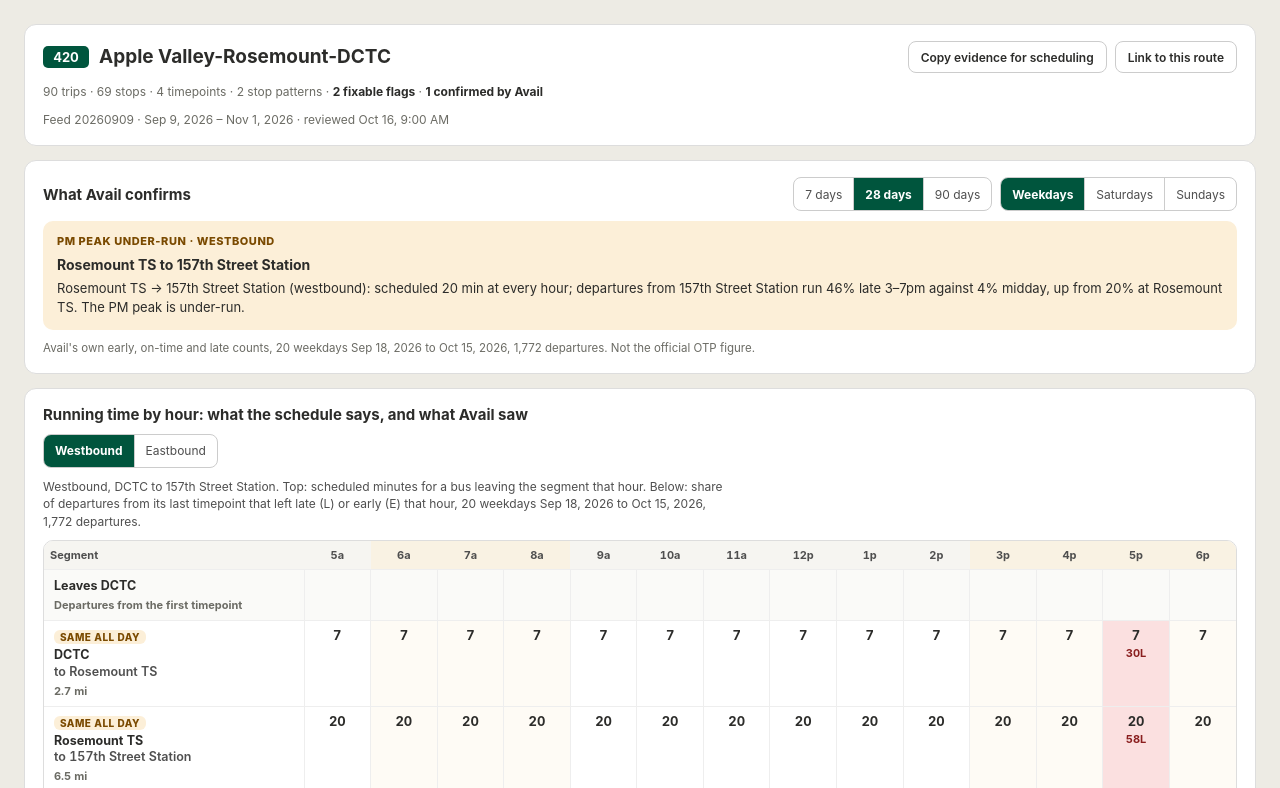
Test case: ScheduleRouteView › asks again with the window the reader picks, and offers Try again when Avail fails
Expected: the list named "where Avail confirms" is shown, 43,221 -> 1237,330
What coordinates should you click on to do the following:
click the button "90 days"
I would click on:
 (957, 194)
Its box is 923,178 -> 991,210.
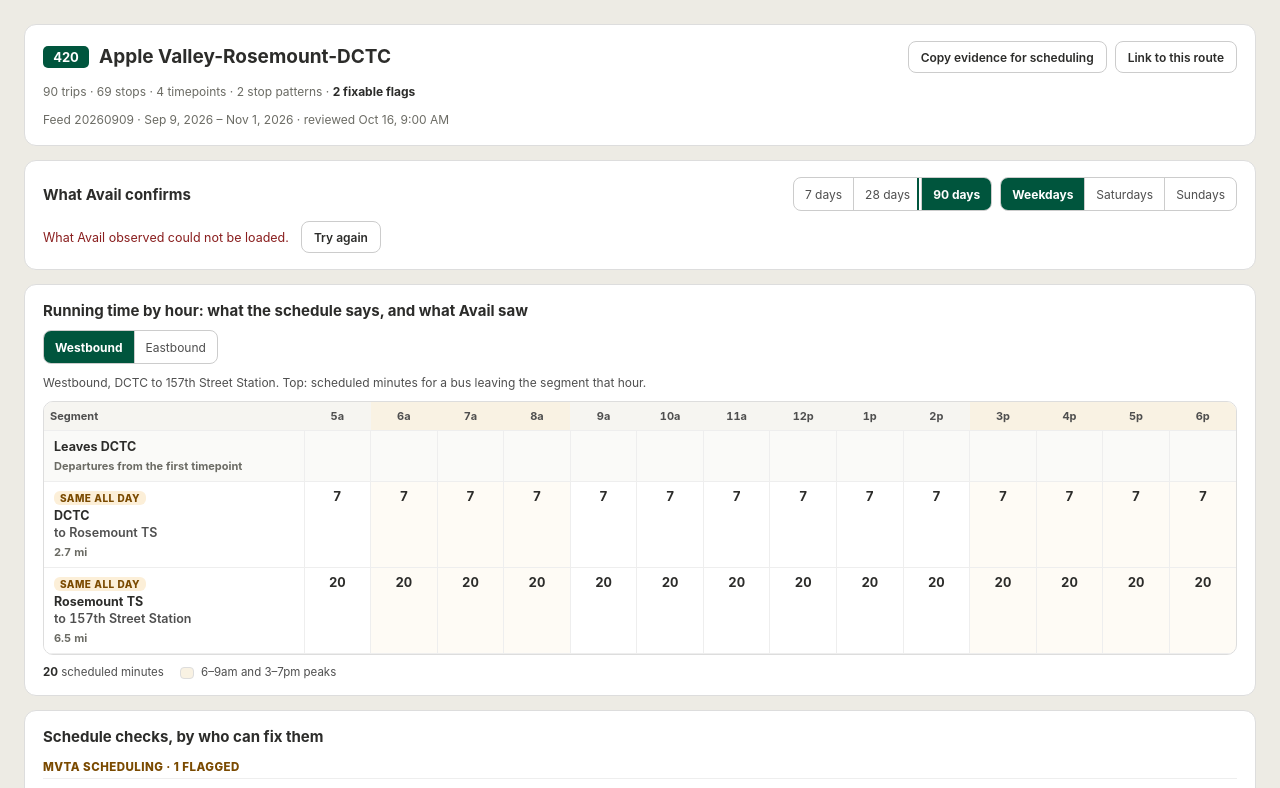
Expected: the message reads "What Avail observed could not be loaded.", 43,230 -> 289,244
What coordinates should you click on to do the following:
click the button "Try again"
I would click on:
 (341, 237)
Its box is 301,221 -> 381,253.
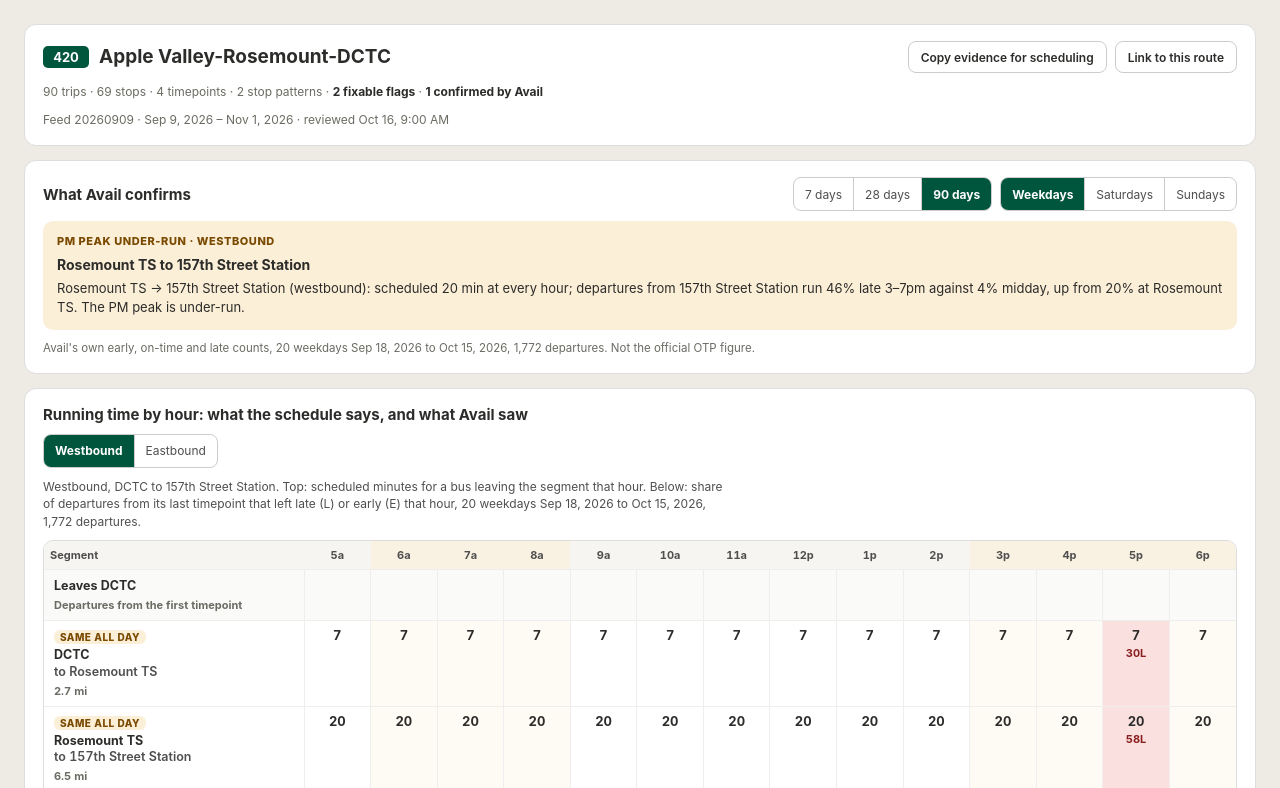
Expected: the list named "where Avail confirms" is shown, 43,221 -> 1237,330
